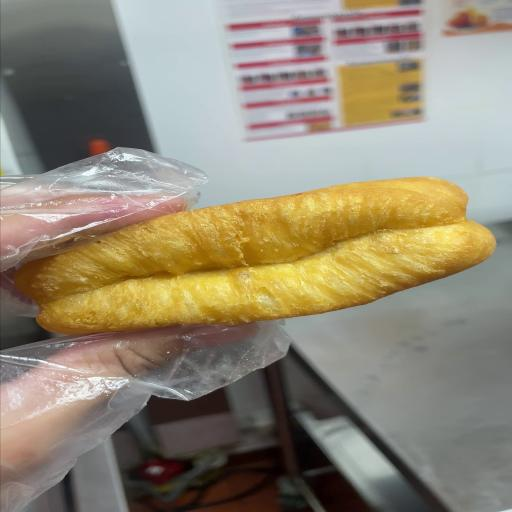brand_golden_good: (15, 178, 494, 333)
